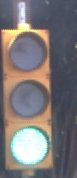Green: (1, 24, 60, 168)
